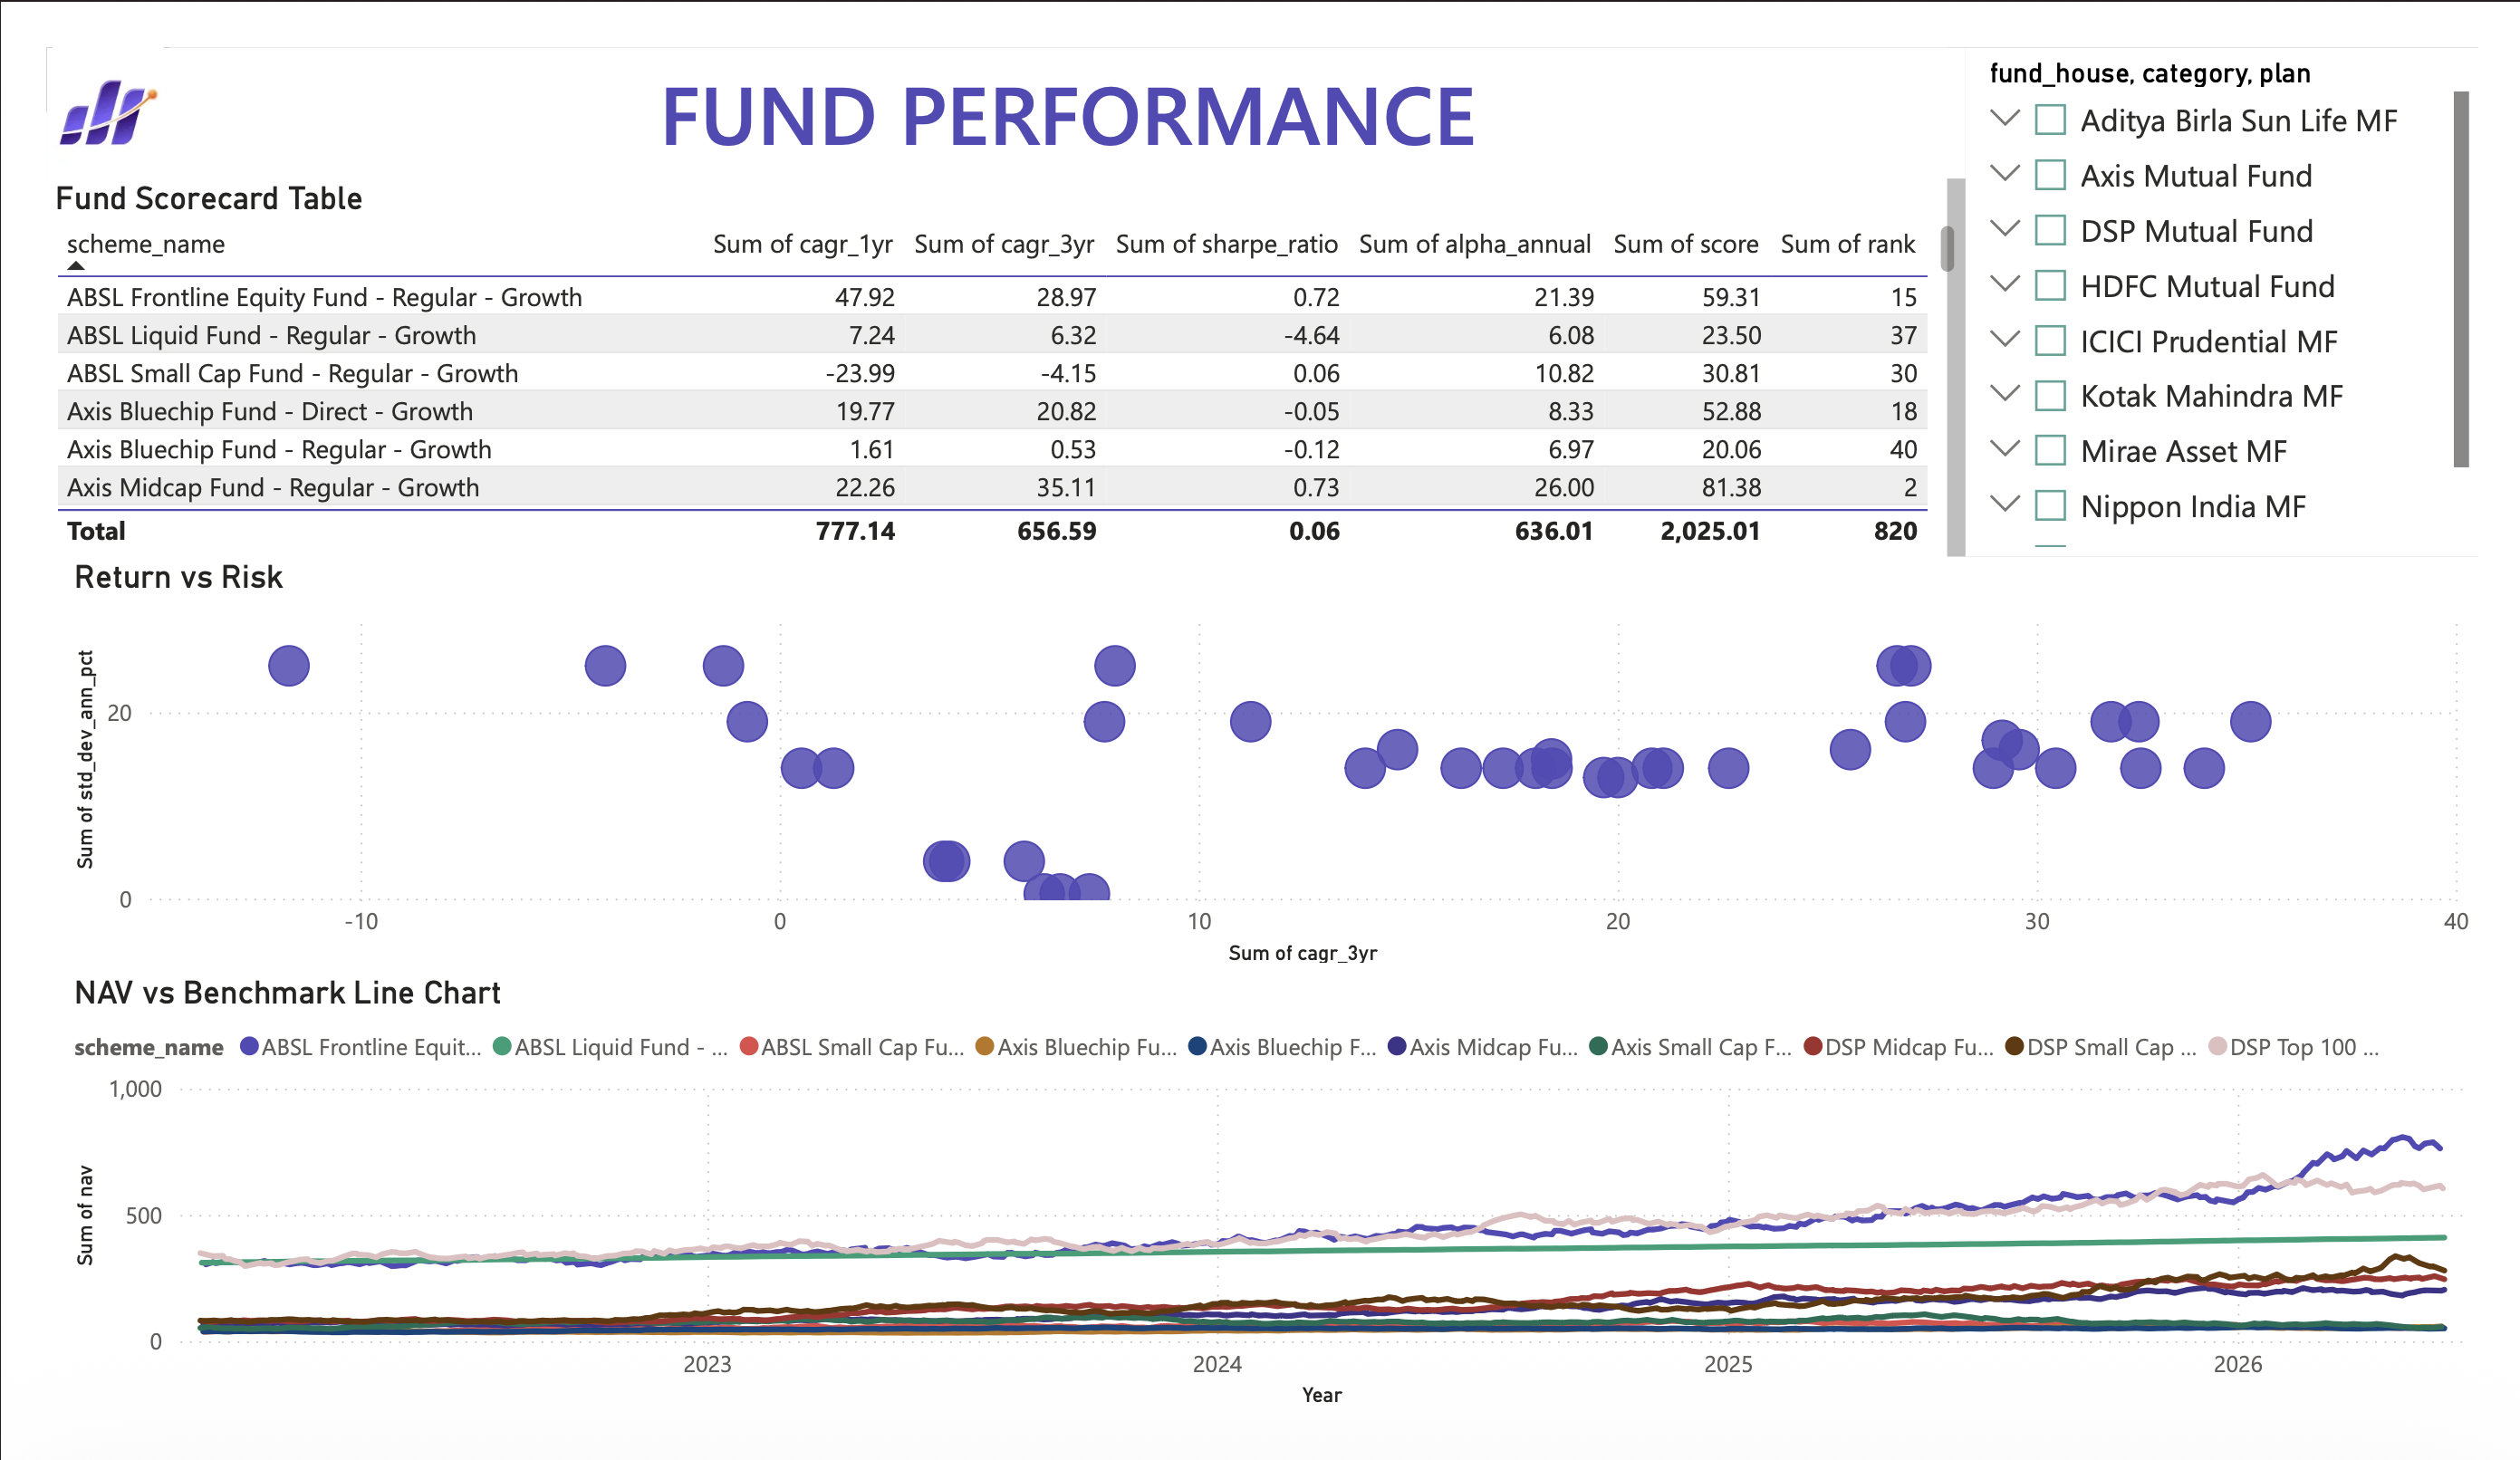

Layout of this report page (visuals, bound fields, positions):
{"tool":"powerbi","page":{"name":"Fund Performance","canvas":[1280,720],"ordinal":1},"visuals":[{"type":"tableEx","title":"Fund Scorecard Table","fields":{"Values":["01_fund_master.scheme_name","Sum(fund_scorecard.cagr_1yr)","Sum(fund_scorecard.cagr_3yr)","Sum(fund_scorecard.sharpe_ratio)","Sum(fund_scorecard.alpha_annual)","Sum(fund_scorecard.score)","Sum(fund_scorecard.rank)"]},"box":[0,68.7,1010.1,199],"z":0},{"type":"lineChart","title":"NAV vs Benchmark Line Chart","fields":{"Y":["Sum(02_nav_history.nav)"],"Category":["02_nav_history.date.Variation.Date Hierarchy.Year","02_nav_history.date.Variation.Date Hierarchy.Quarter","02_nav_history.date.Variation.Date Hierarchy.Month","02_nav_history.date.Variation.Date Hierarchy.Day"],"Series":["01_fund_master.scheme_name"]},"box":[10.1,486.9,1269.7,233.3],"z":1000},{"type":"slicer","fields":{"Values":["01_fund_master.fund_house","01_fund_master.category","01_fund_master.plan"]},"box":[1010.1,0,269.7,267.7],"z":2000},{"type":"image","box":[0,0,64.6,68.7],"z":3000},{"type":"scatterChart","title":"Return vs Risk","fields":{"X":["Sum(fund_scorecard.cagr_3yr)"],"Y":["Sum(07_scheme_performance.std_dev_ann_pct)"],"Size":["_Measures.M_Total_AUM"],"Category":["07_scheme_performance.scheme_name"]},"box":[10.1,267.7,1269.7,219.2],"z":4000},{"type":"textbox","box":[64.6,0,945.5,68.7],"z":4001}]}

Visuals, with their boxes in screenshot pixels (x1, y1, x2, y2), scaled from the page's 1280x720 canvas onto the 2520x1460 screenshot:
"Fund Scorecard Table" tableEx: left=0, top=139, right=1988, bottom=543
"NAV vs Benchmark Line Chart" lineChart: left=20, top=987, right=2519, bottom=1459
slicer - 01_fund_master.fund_house x 01_fund_master.category: left=1988, top=0, right=2519, bottom=543
image: left=0, top=0, right=127, bottom=139
"Return vs Risk" scatterChart: left=20, top=543, right=2519, bottom=987
textbox: left=127, top=0, right=1988, bottom=139
